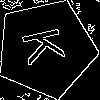K: (21, 23, 75, 67)
